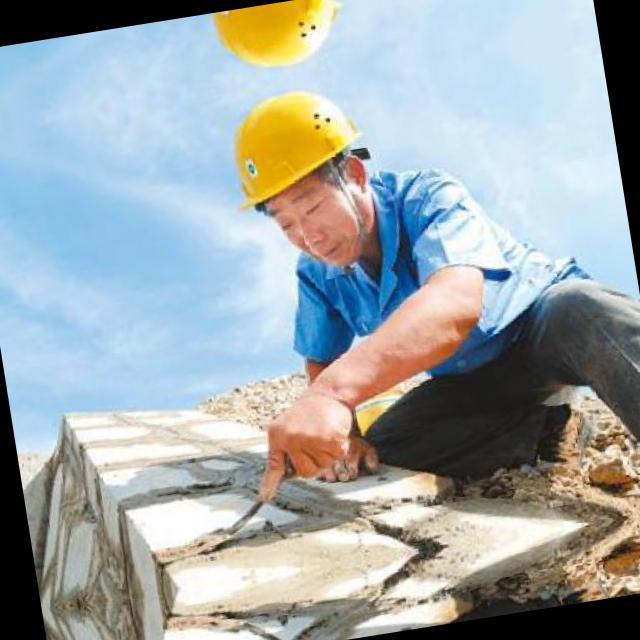helmet: (196, 66, 396, 290), (183, 0, 365, 93)
